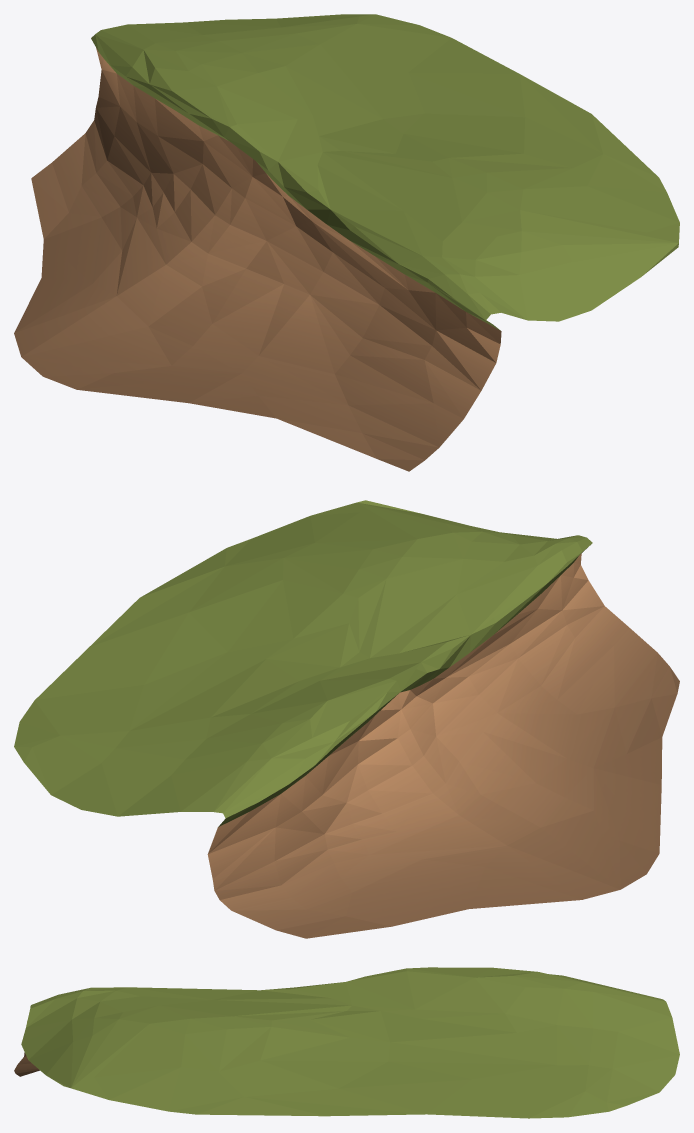
The model's file is Terrain_Cliff_Straight-03.FBX.
The picture shows the model from 3 angles, top to bottom: view 1: azimuth 30°, elevation 25°; view 2: azimuth 150°, elevation 25°; view 3: azimuth 270°, elevation 25°; orthographic projection. The views are drawn at different scales.
Parts seen in each view (by area): view 1: Terrain_Cliff_Straight-03; view 2: Terrain_Cliff_Straight-03; view 3: Terrain_Cliff_Straight-03.
Part boxes in pixels (x1=…): Terrain_Cliff_Straight-03: x1=14, y1=14, x2=679, y2=471; Terrain_Cliff_Straight-03: x1=14, y1=500, x2=679, y2=938; Terrain_Cliff_Straight-03: x1=14, y1=967, x2=679, y2=1118.
Size of the model in its own units: 4369 by 1351 by 5739.
1 material, 1 textured.
